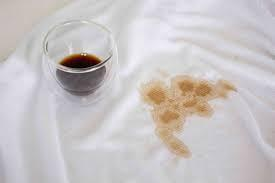coffee: (149, 84, 209, 114), (157, 117, 178, 139), (211, 84, 231, 97), (171, 143, 190, 155)
